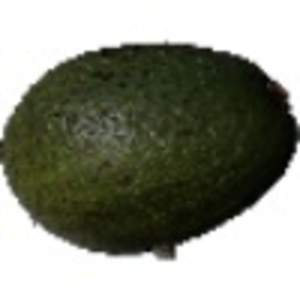abacate: (4, 37, 298, 250)
